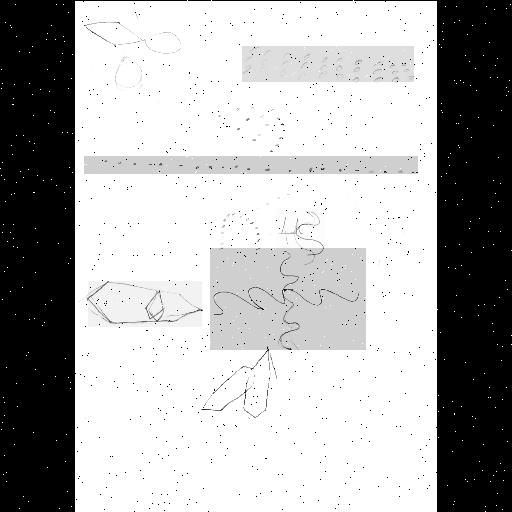shape-1: (84, 20, 182, 56)
shape-2: (84, 156, 418, 174)
shape-3: (242, 46, 414, 82)
shape-4: (218, 102, 288, 154)
shape-5: (276, 208, 326, 260)
shape-6: (218, 186, 292, 252)
shape-7: (210, 248, 366, 350)
shape-8: (88, 281, 202, 327)
shape-9: (202, 346, 270, 420)
